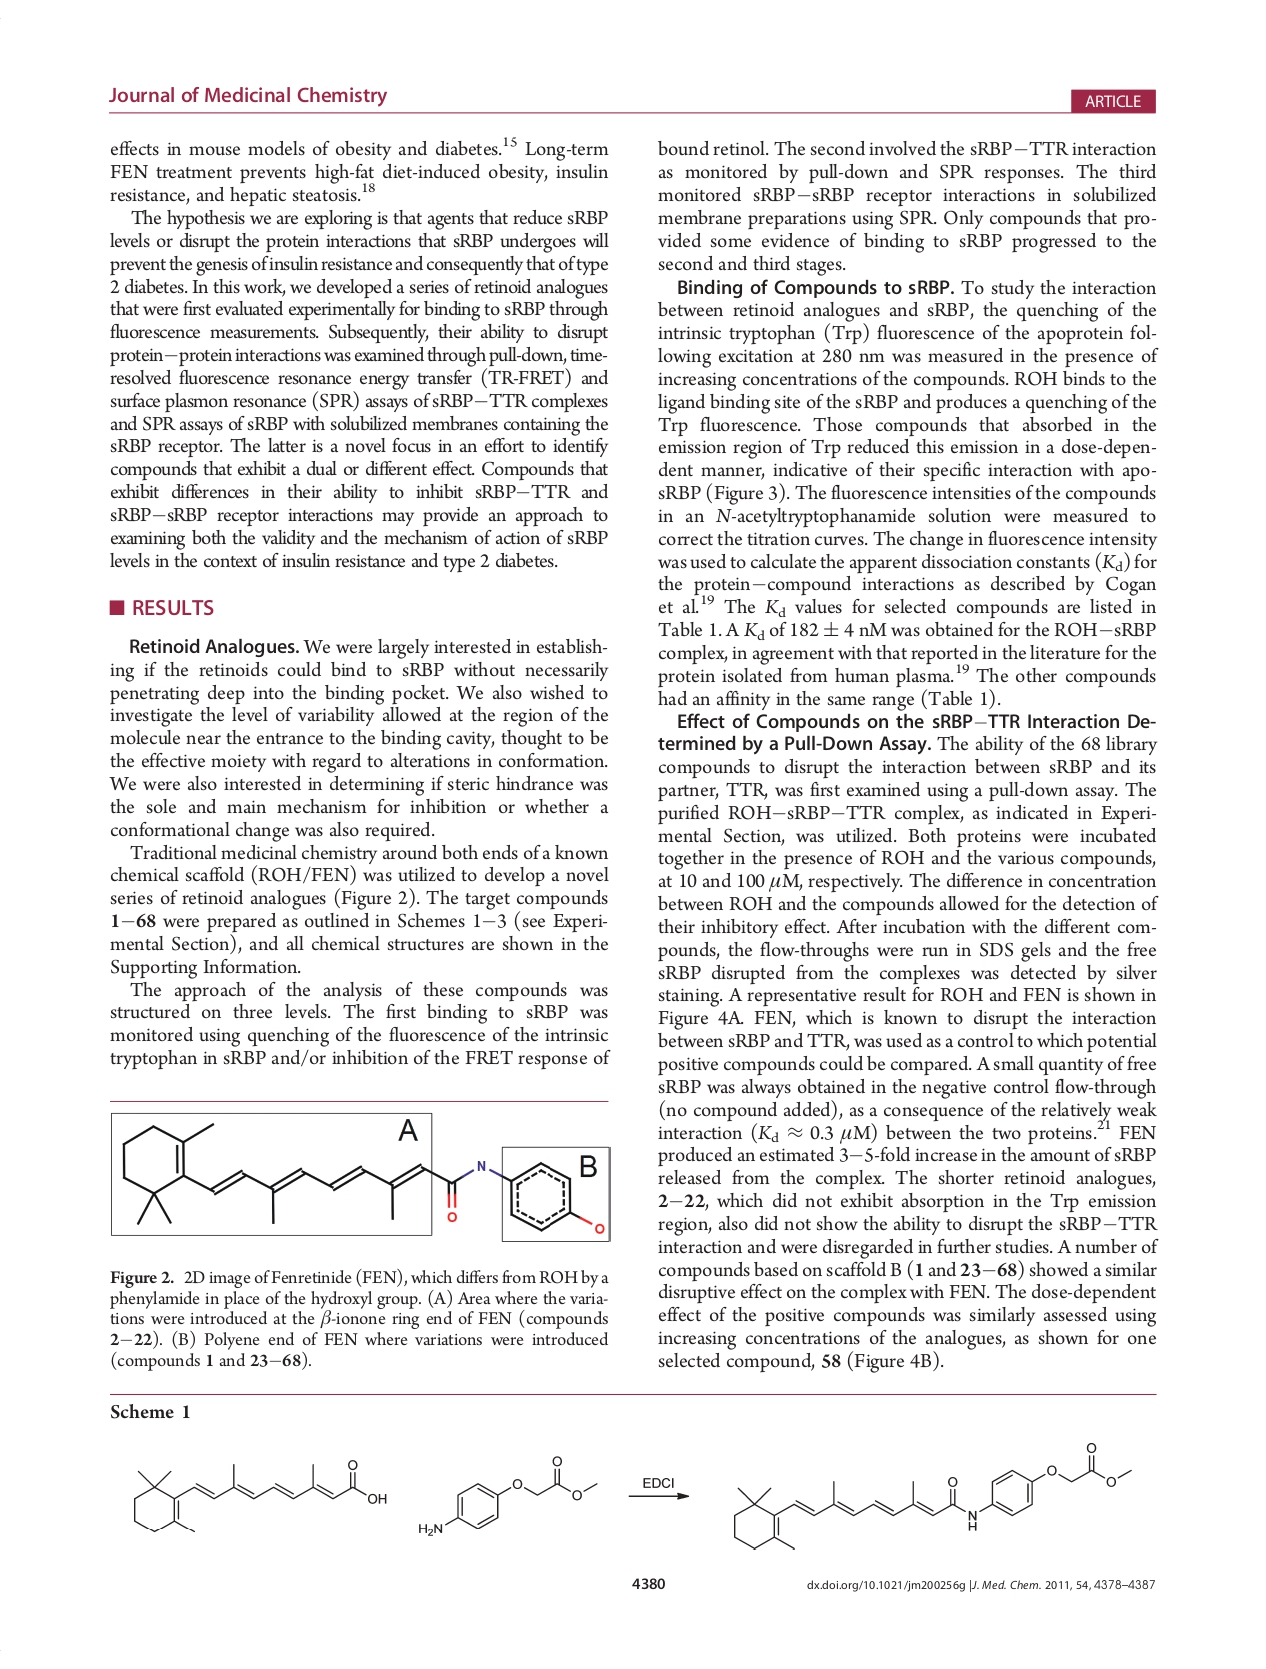exist_molecular: (117, 1121, 606, 1235), (725, 1438, 1136, 1551), (128, 1454, 390, 1537), (415, 1451, 600, 1539)
